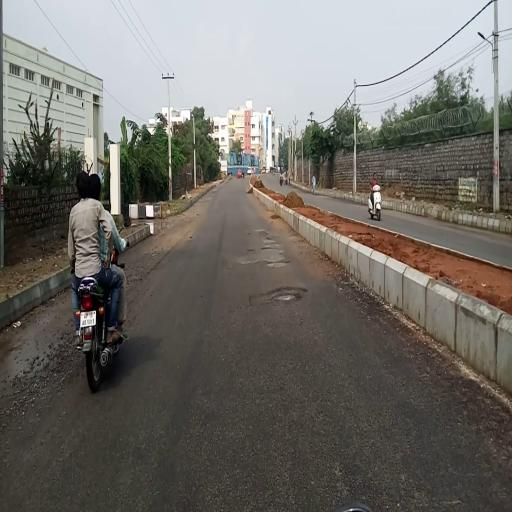street_light_0: (472, 19, 495, 53)
